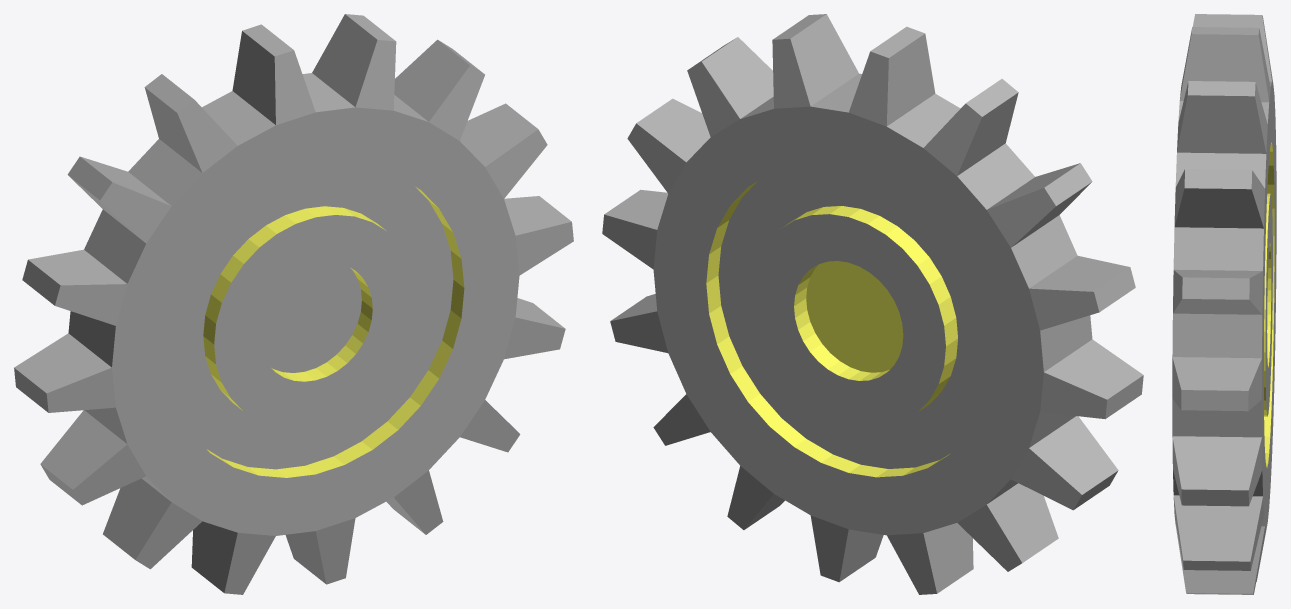
File: Cogwheel_ani.fbx
The picture shows the model from 3 angles, left to right: view 1: azimuth 30°, elevation 25°; view 2: azimuth 150°, elevation 25°; view 3: azimuth 270°, elevation 25°; orthographic projection. The views are drawn at different scales.
Parts seen in each view (by area): view 1: Cylinder; view 2: Cylinder; view 3: Cylinder.
Boxes of the visible parts, box(x1,y1,x2,y2) form: Cylinder: box(14, 14, 573, 594); Cylinder: box(602, 14, 1143, 594); Cylinder: box(1172, 14, 1276, 594).
Size of the model in its own units: 260 by 259 by 46.61.
